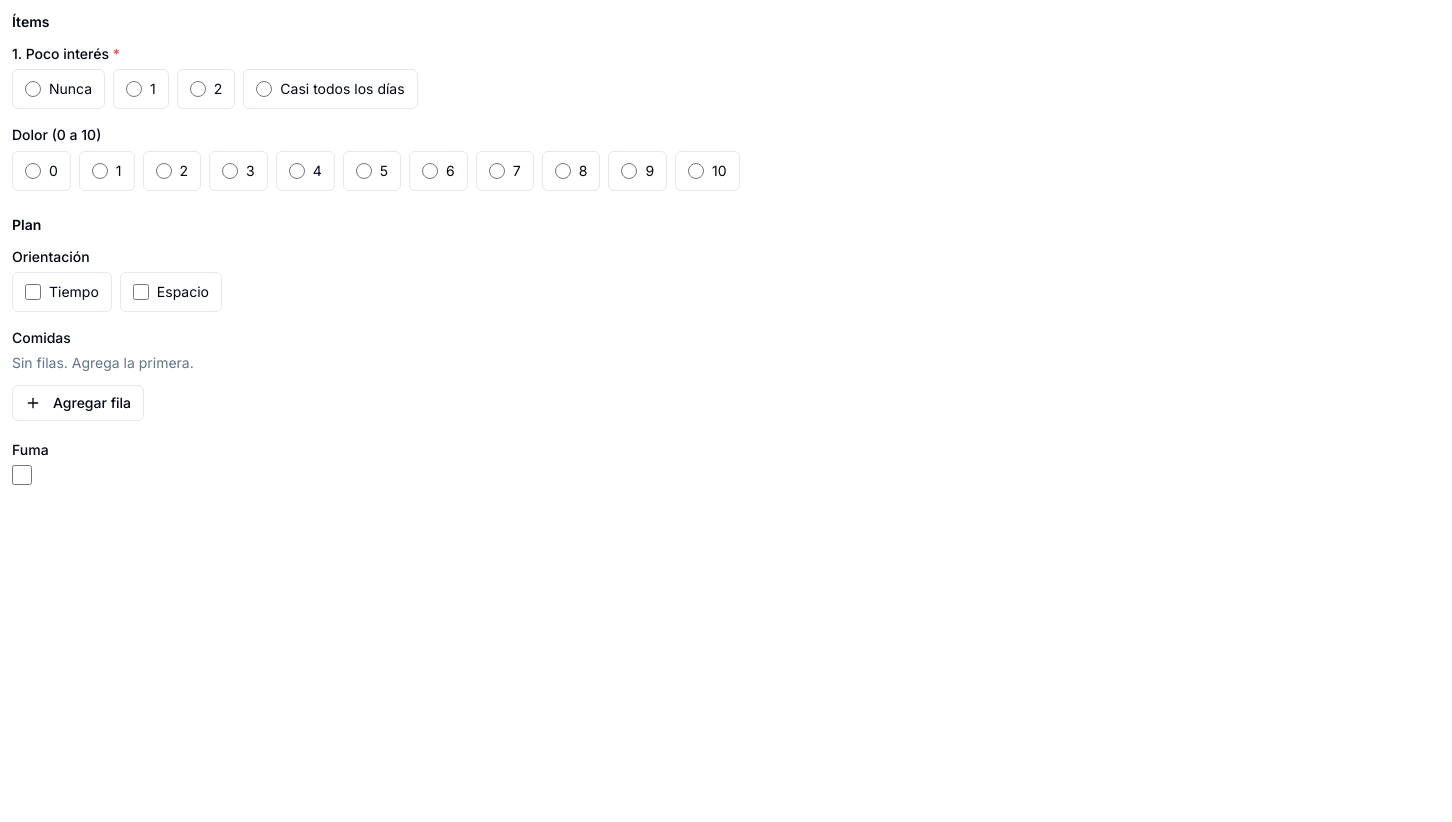
Test: ClinicalModuleForm › adds and removes table rows up to the limit of the definition
Click the button "Agregar fila": (78, 403) [12,385,144,421]
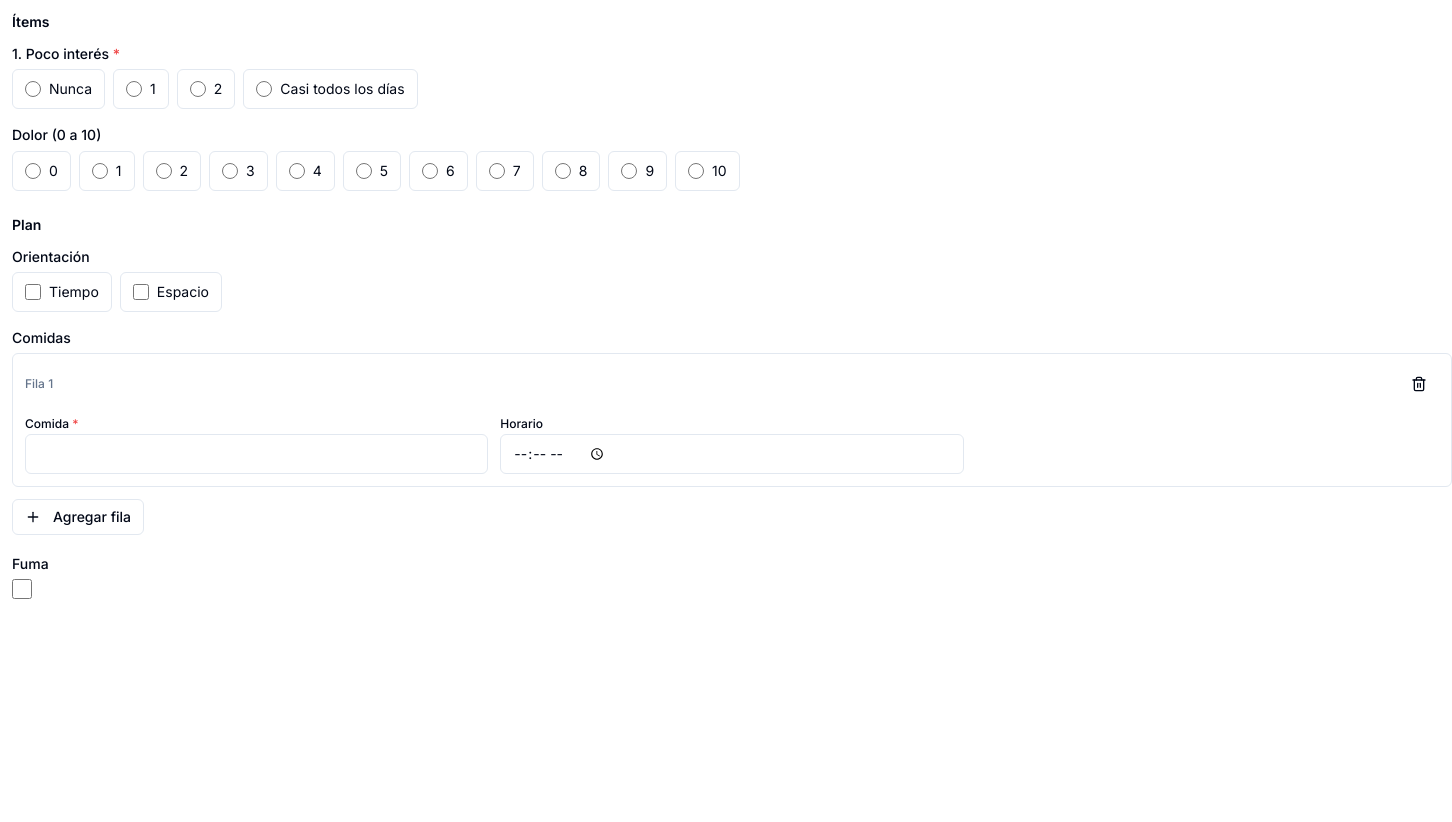
Click the button "Agregar fila": (78, 517) [12,499,144,535]
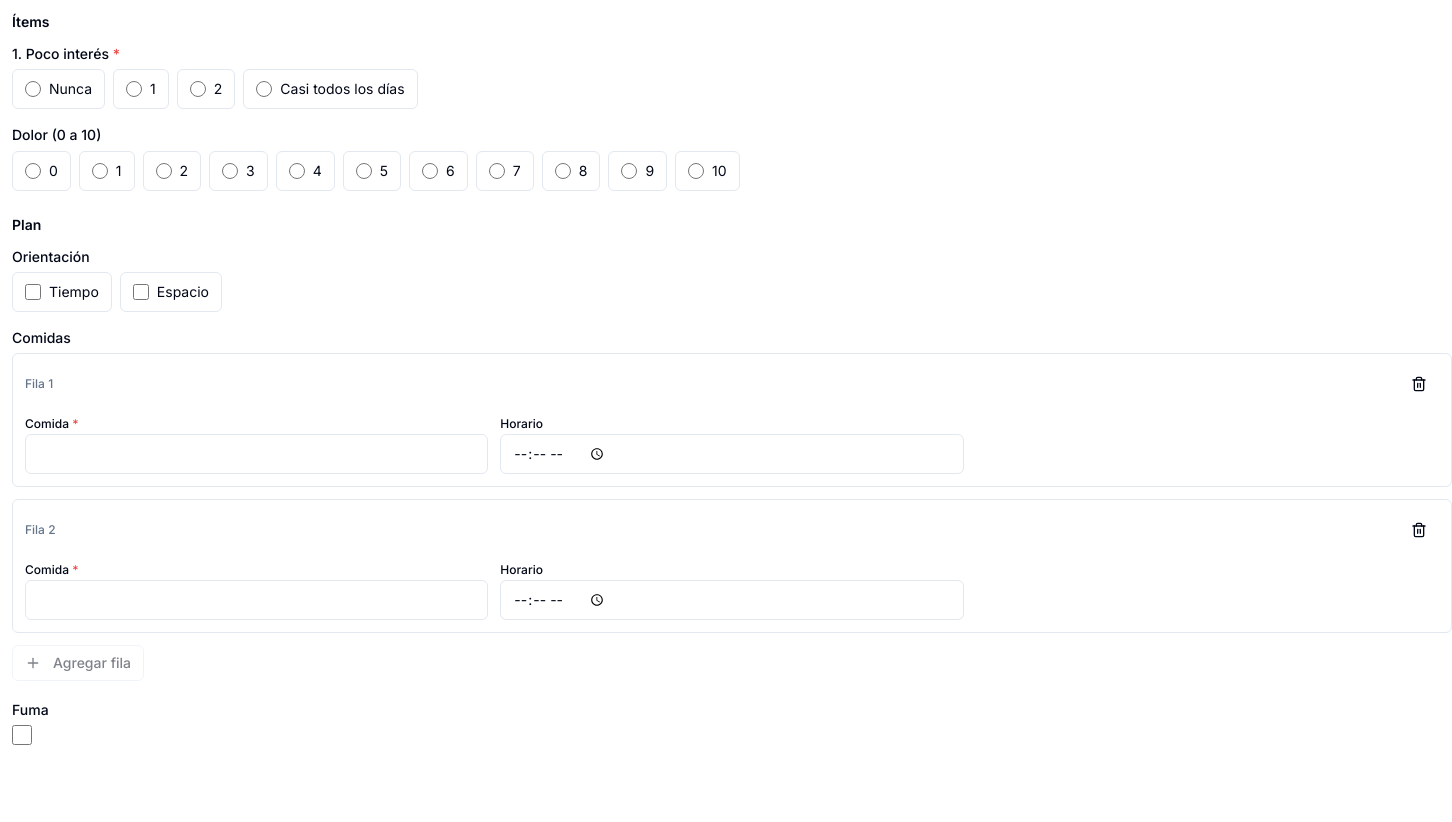
Expected: the button "Agregar fila" is disabled, [12,645,144,681]
In the field named "Comida, fila 1": (257, 454) [25,434,488,474], type "Desayuno"
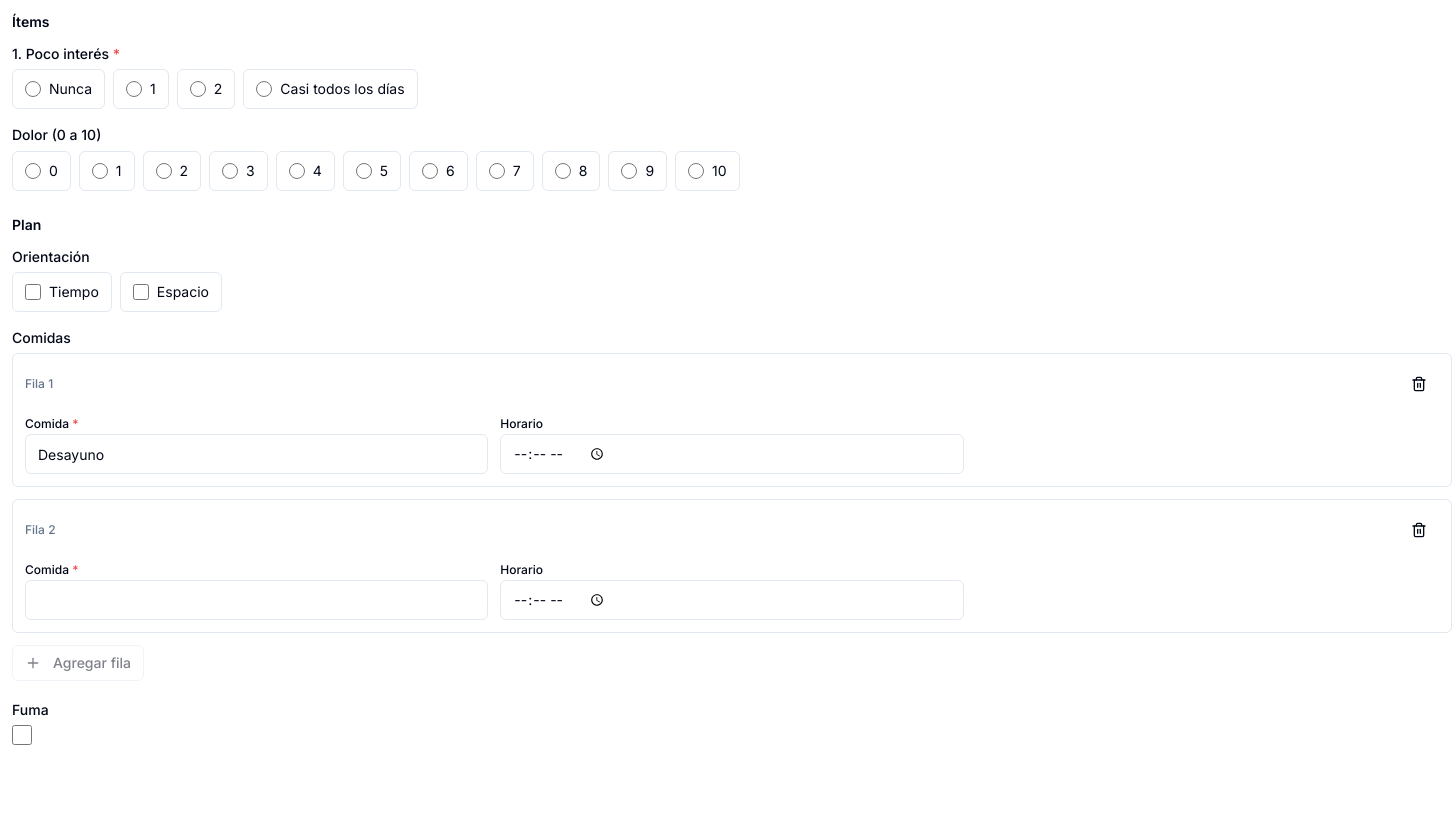
In the time field named "Horario, fila 1": (732, 454) [500,434,964,474], type "07:30"
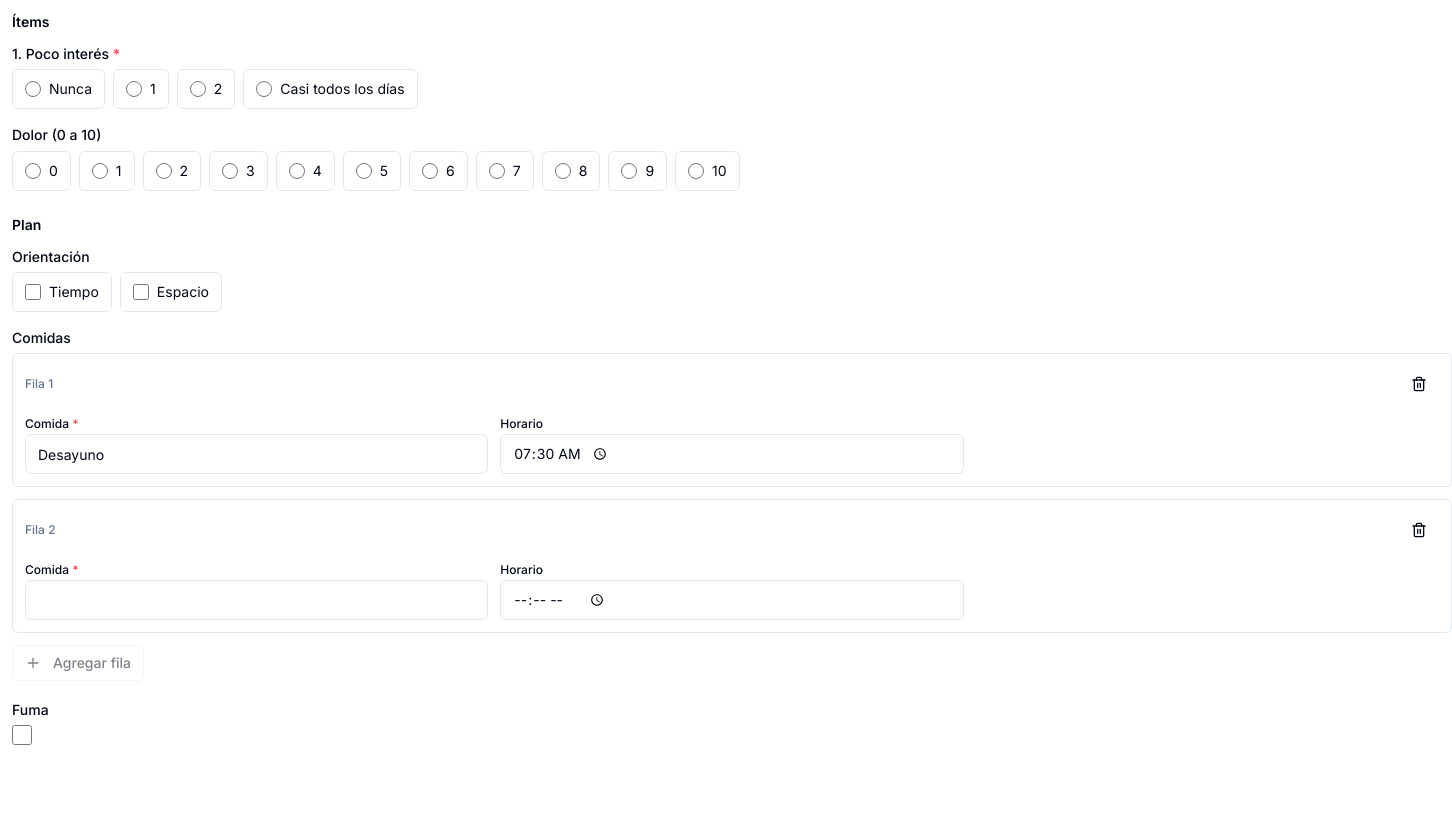
In the field named "Comida, fila 2": (257, 600) [25,580,488,620], type "Almuerzo"
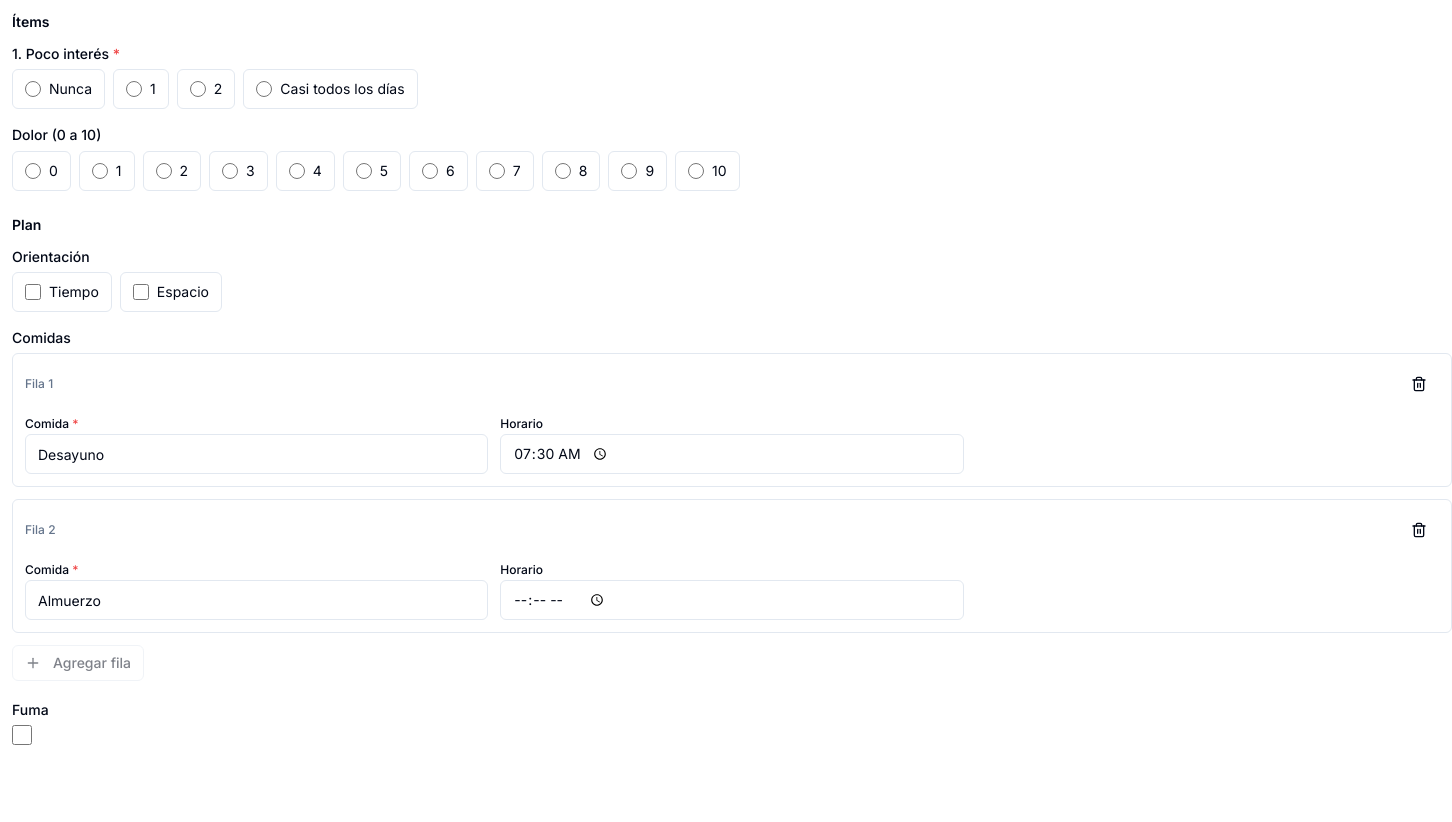
Click the button named "Quitar fila 1 de Comidas": (1419, 384) [1399,366,1439,402]
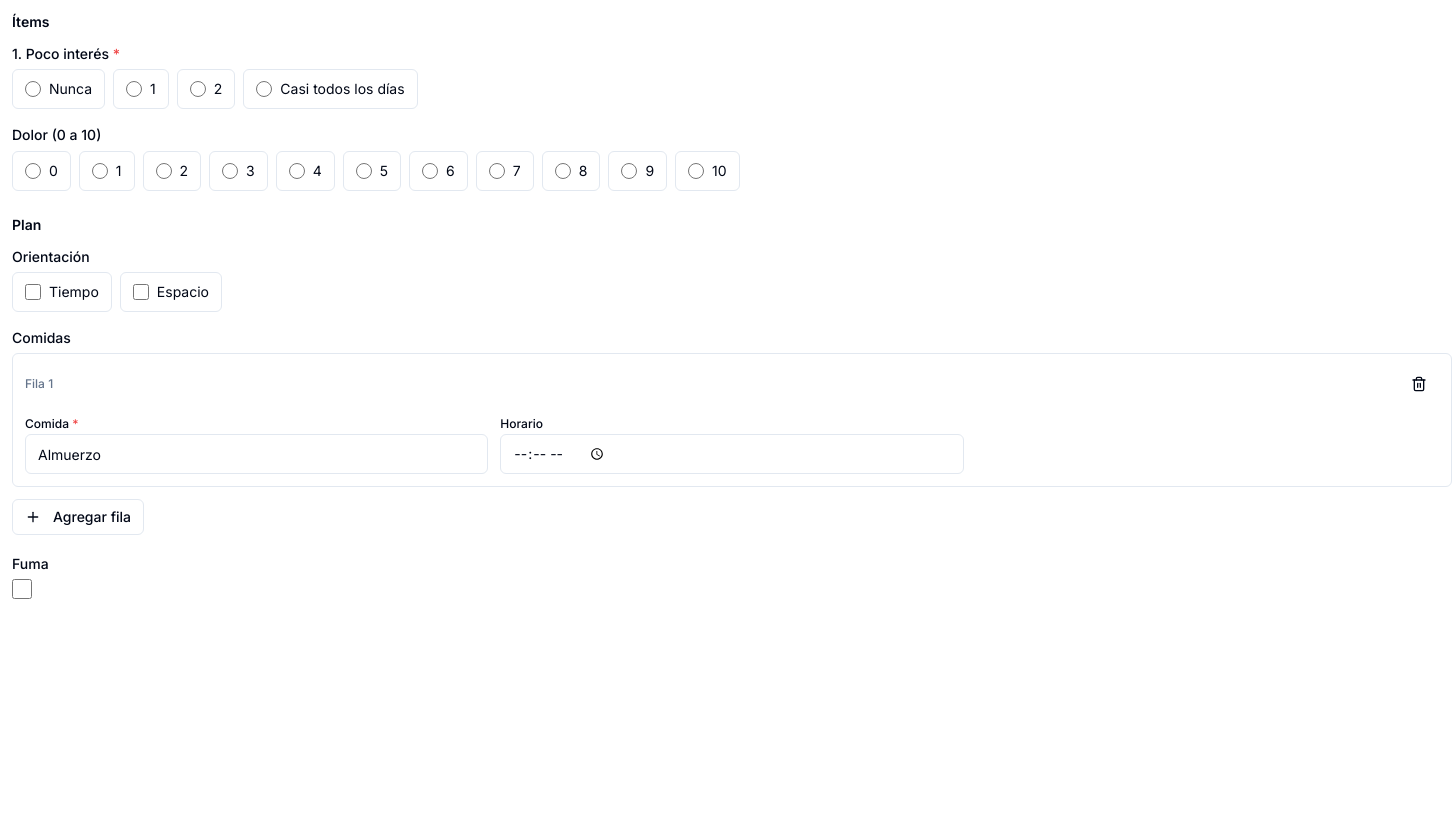
Expected: the button "Agregar fila" is enabled, [12,499,144,535]
